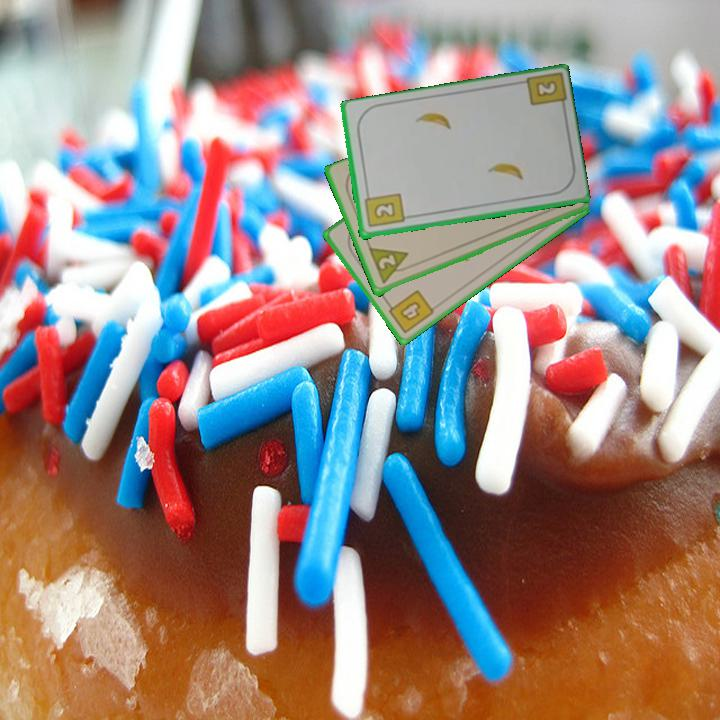2b: (361, 188, 407, 231), (532, 77, 560, 100)
2p: (365, 245, 416, 287)
4b: (382, 286, 437, 337)
